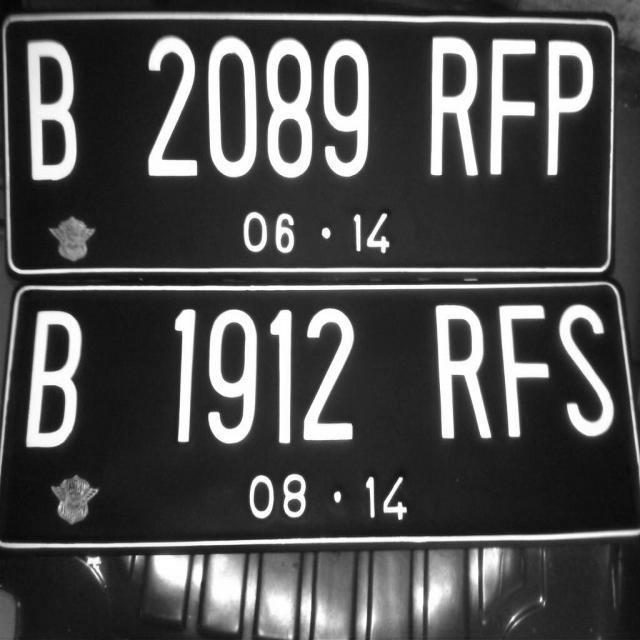0: (212, 40, 260, 186)
1: (160, 305, 204, 460), (258, 308, 296, 461)
2: (142, 32, 208, 186), (303, 303, 359, 466)
8: (258, 38, 318, 188)
9: (318, 28, 377, 188), (208, 310, 254, 460)
B: (18, 33, 80, 184), (23, 308, 81, 464)
F: (493, 296, 555, 451), (486, 41, 536, 176)
P: (536, 41, 592, 192)
R: (421, 26, 488, 190), (428, 300, 494, 450)
S: (558, 303, 622, 446)
